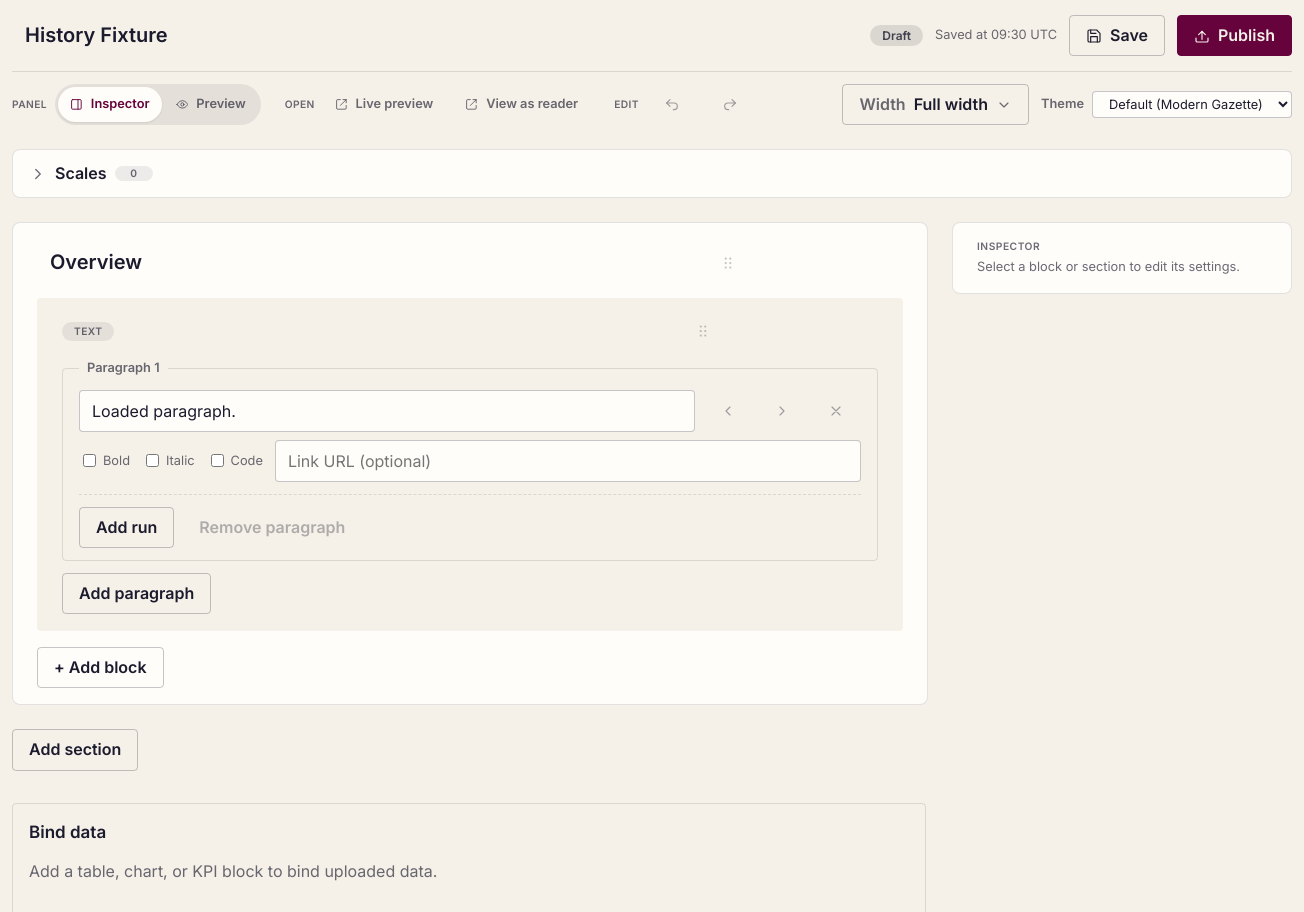
ReportEditor persistence UX (Story 10.7) › undo after a settled edit still leaves a working copy a save would persist
Replace the text in the field named "Report title" with "First Edit". click: [435, 36]
box: [12,12,858,59]
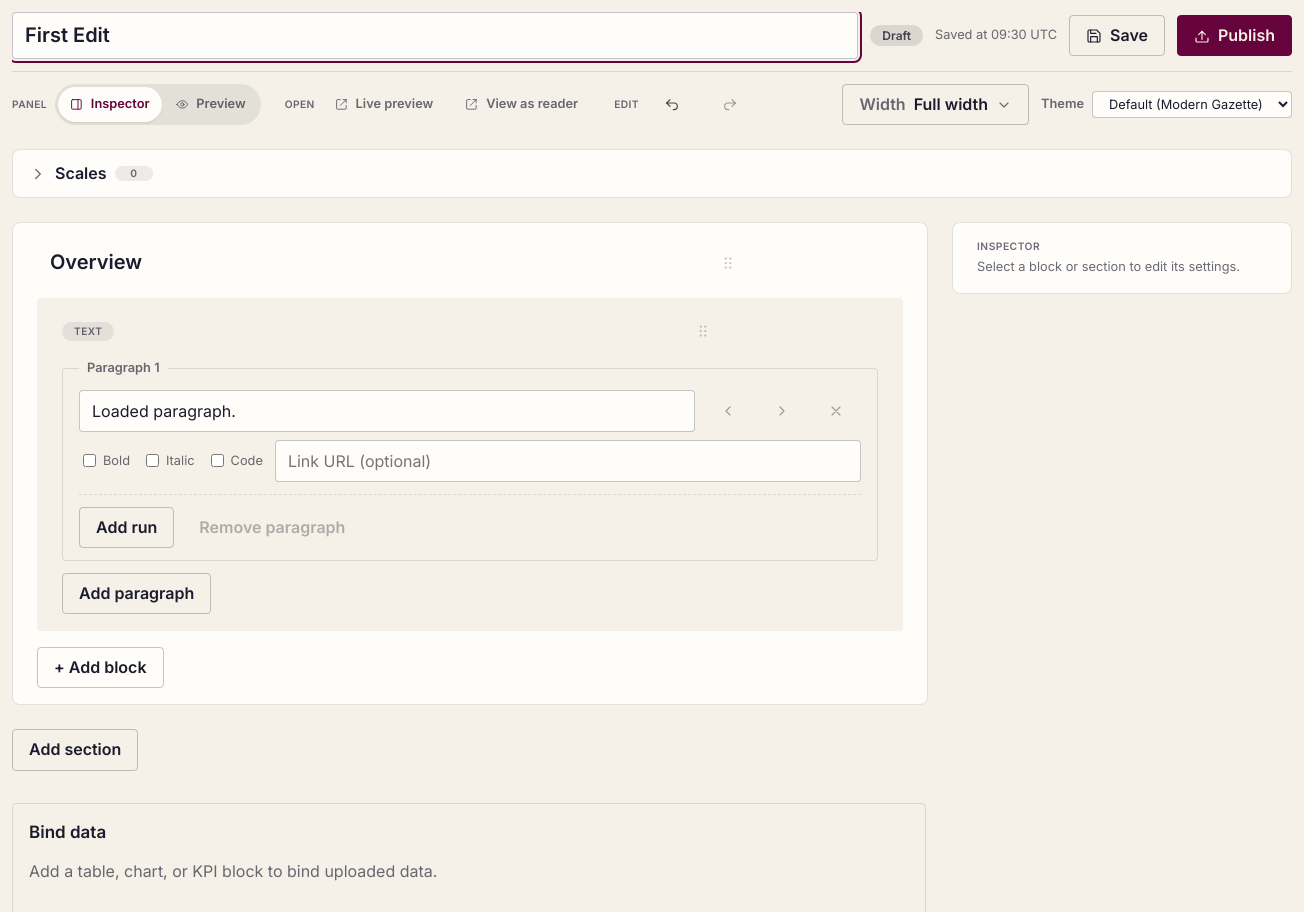
Now the button named "Undo" is enabled
Click the button named "Undo". click: [672, 105]
box: [647,89,697,121]
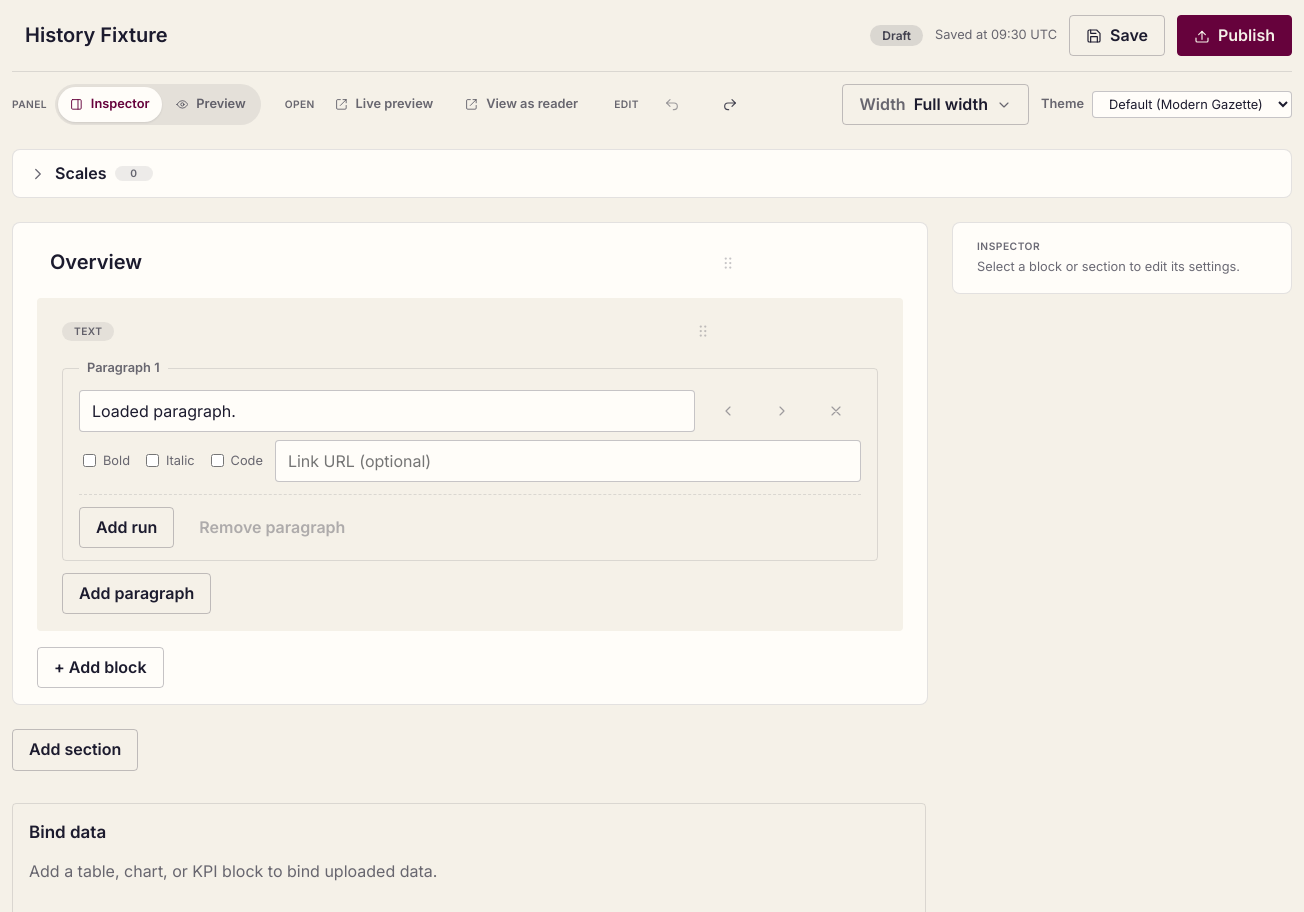
Now the field named "Report title" holds "History Fixture", box [12,12,858,59]
